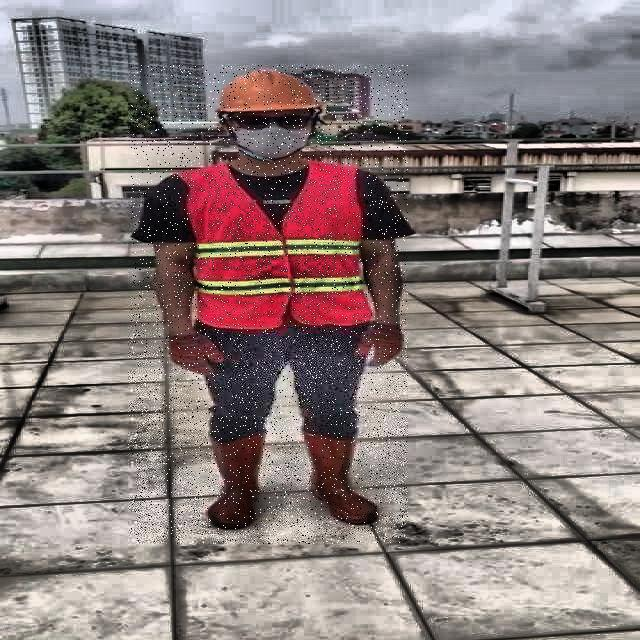safety_helmet: (210, 66, 323, 117)
safety_jacket: (176, 165, 372, 326)
